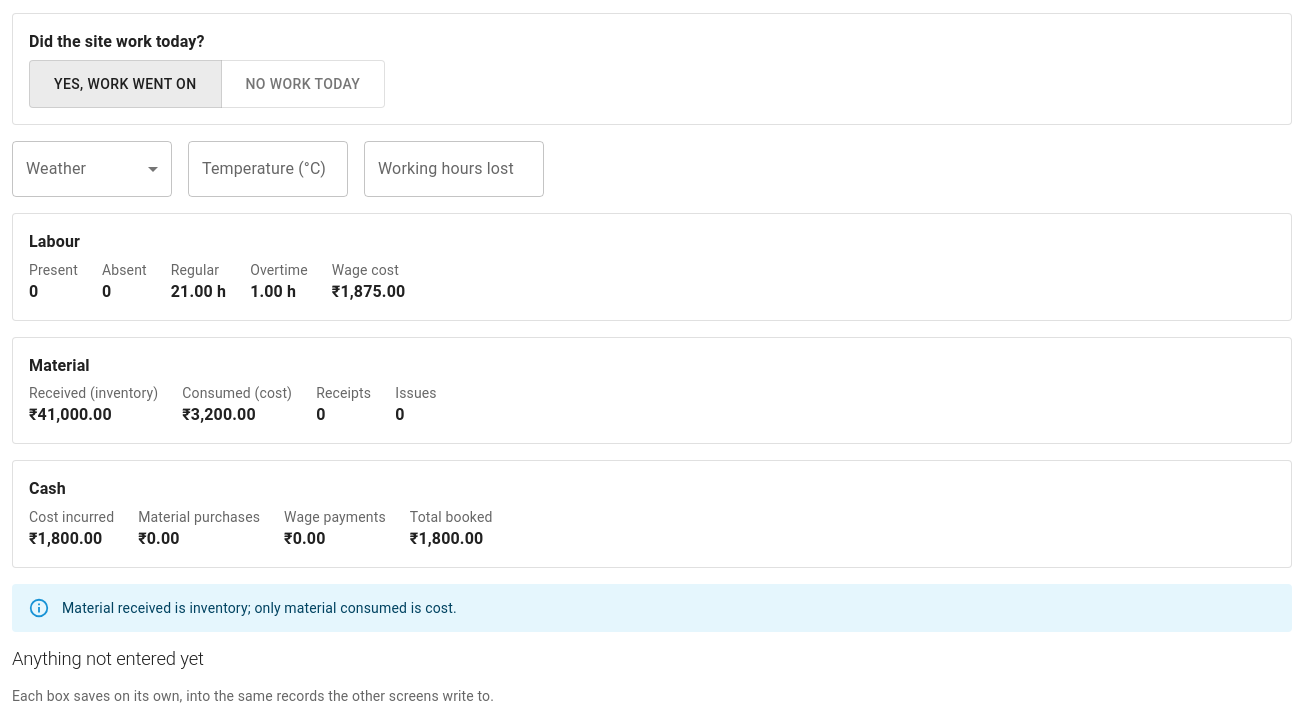
Test: DprWizardPage › will not save a lost day without a cause
This screenshot has width=1304, height=713.
Expected: the text "Labour" is shown, [29, 232, 80, 251]
Click the button "No work today". click: x=303, y=84
box: [220, 60, 385, 108]
(page scrolled)
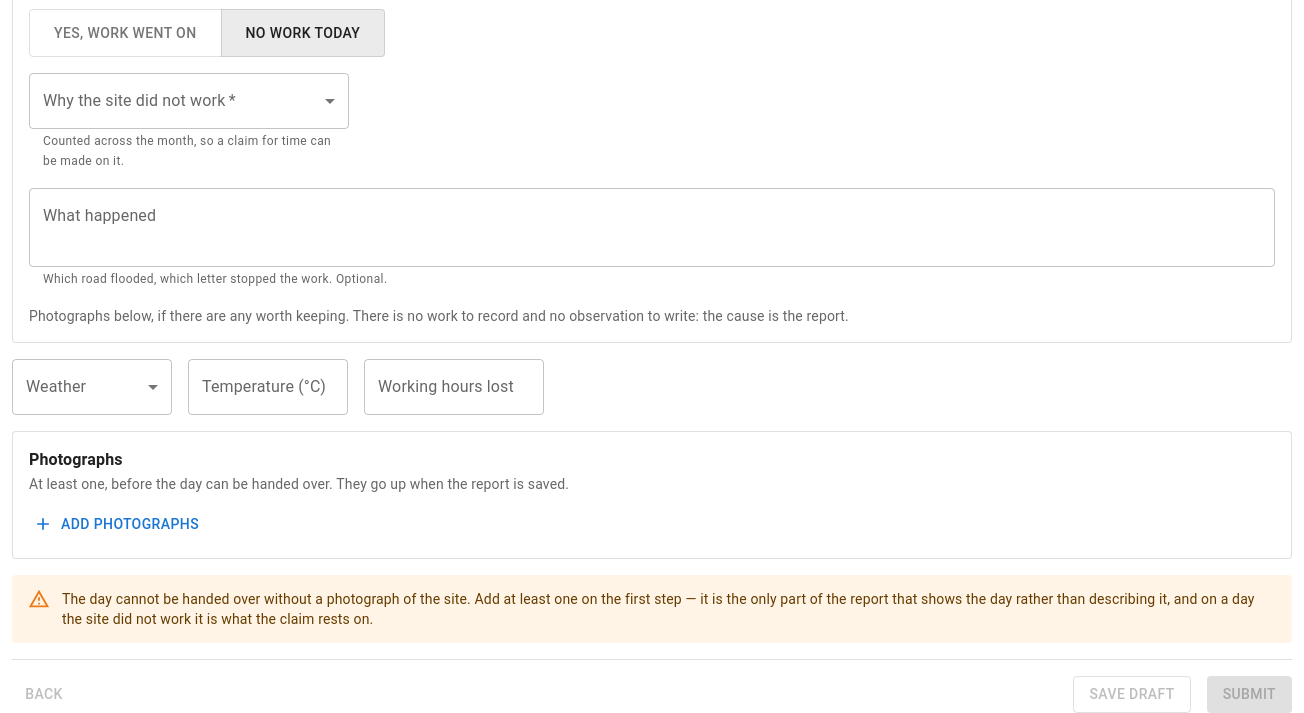
Expected: the button "Submit" is disabled, [1207, 676, 1292, 712]
Expected: the button "Save draft" is disabled, [1073, 676, 1191, 712]
